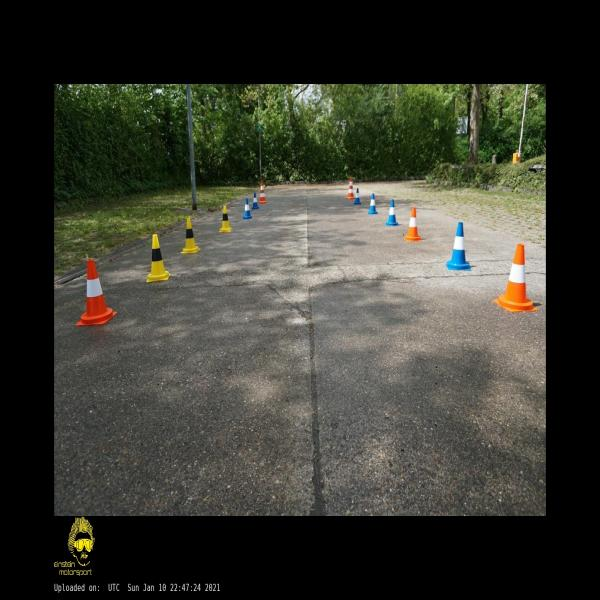blue_cone: (446, 222, 471, 271), (386, 199, 398, 226), (368, 193, 378, 214), (242, 199, 252, 219), (353, 188, 361, 204), (252, 193, 260, 208)
large_orange_cone: (346, 176, 355, 200), (258, 180, 267, 203)
orange_cone: (494, 244, 538, 312), (76, 260, 118, 326), (404, 208, 421, 241)
yellow_cone: (146, 234, 170, 282), (181, 218, 200, 254), (219, 205, 233, 232)
